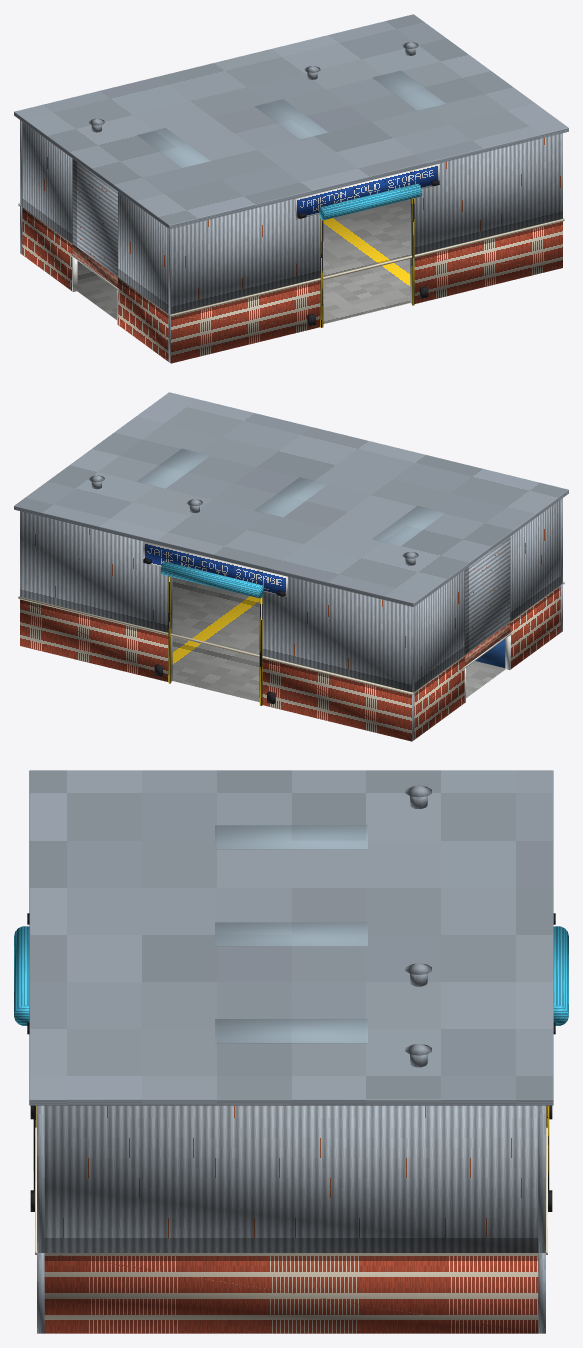
Rendered from p_pj_shed_cold.glb.
The picture shows the model from 3 angles, top to bottom: view 1: azimuth 30°, elevation 25°; view 2: azimuth 150°, elevation 25°; view 3: azimuth 270°, elevation 25°; orthographic projection. The views are drawn at different scales.
Visible parts, largest first — view 1: p_pj_shed_cold_lod0; view 2: p_pj_shed_cold_lod0; view 3: p_pj_shed_cold_lod0.
Boxes of the visible parts, x1=… form: p_pj_shed_cold_lod0: x1=14, y1=14, x2=568, y2=363; p_pj_shed_cold_lod0: x1=14, y1=392, x2=568, y2=741; p_pj_shed_cold_lod0: x1=14, y1=770, x2=568, y2=1333.
Size of what is drawn, in the model's own units: 30.6 by 11.15 by 21.8.
3 materials, 1 textured.
